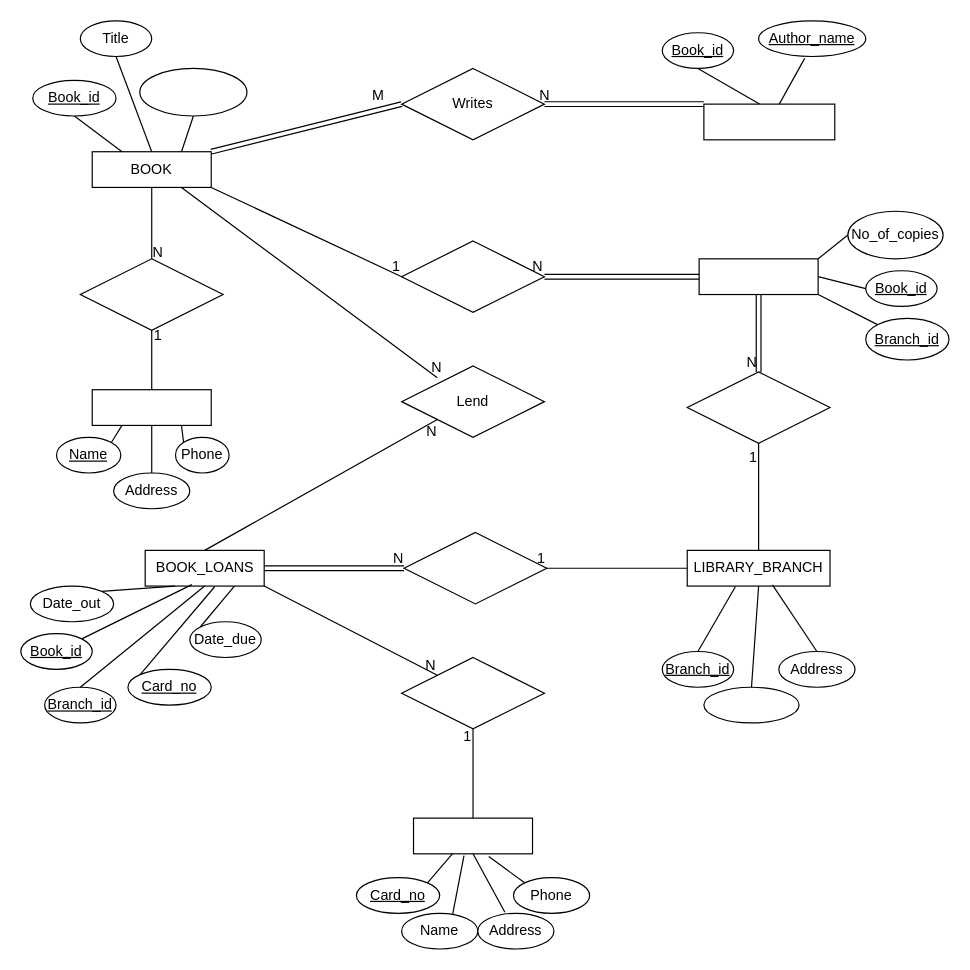
This 970x970 diagram has some shape labels left out. The shapes that lost their labels are listed below. From the top down, each one's centre as x and y in pixels, then its label:
point 193,91: Publisher_name
point 769,121: BOOK_AUTHORS
point 151,294: Publishes
point 472,276: Has_copies
point 758,276: BOOK_COPIES
point 151,407: PUBLISHER
point 758,407: has
point 475,567: validate
point 472,692: Borrows
point 751,704: Branch_name
point 472,835: BORROWER
